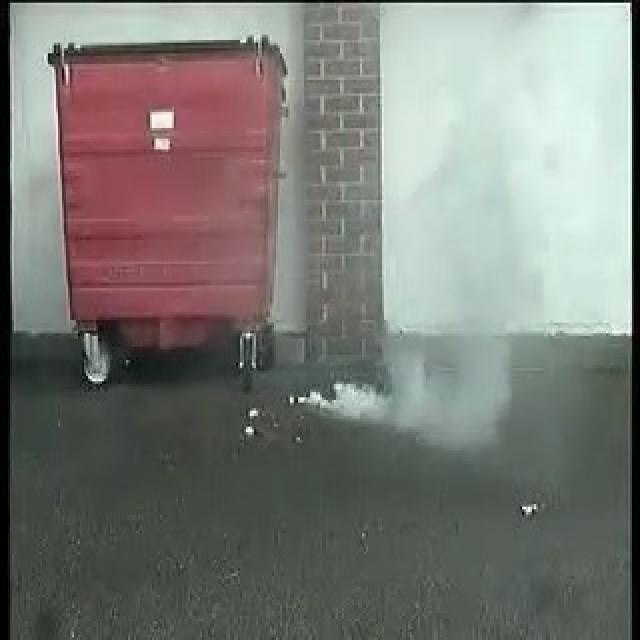smoke: (305, 316, 502, 447)
